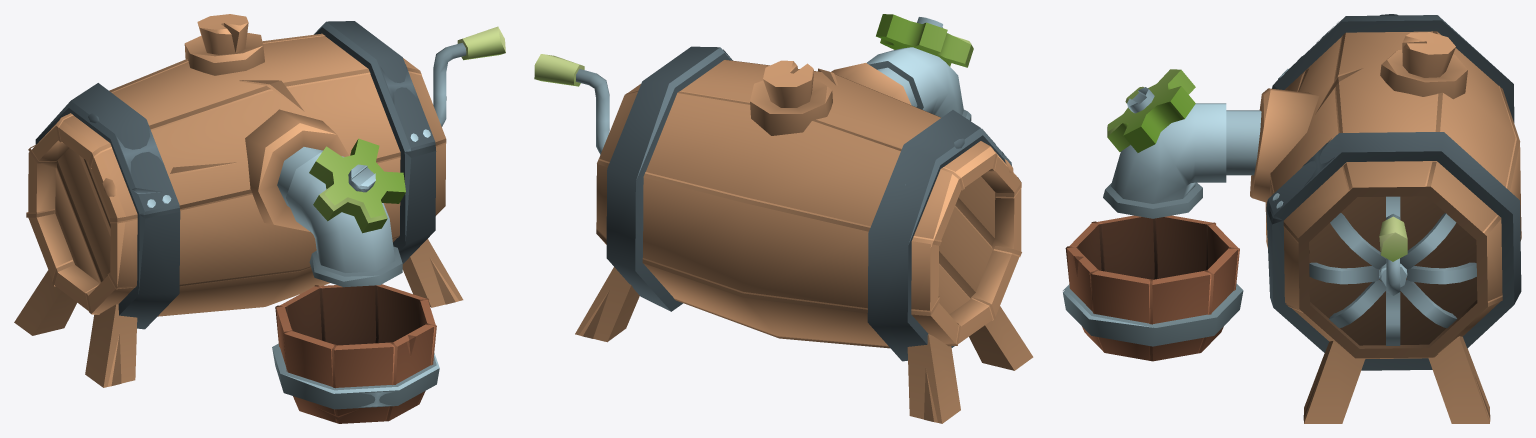
The model's file is woodenmixer.glb.
3 renders of one model, left to right at view 1: azimuth 30°, elevation 25°; view 2: azimuth 150°, elevation 25°; view 3: azimuth 270°, elevation 25°, orthographic. The views are drawn at different scales.
Visible parts, largest first — view 1: woodenmixer, Cylinder.014, Cylinder.013, Cube.010, Cylinder.015, Cylinder.012, Cylinder.018, wheelformachine, Cube.019; view 2: woodenmixer, Cube.019, Cylinder.012, Cylinder.013, Cylinder.018, Cylinder.015, wheelformachine, Cube.010; view 3: woodenmixer, Cylinder.014, Cylinder.013, wheelformachine, Cylinder.018, Cylinder.015, Cube.019, Cube.010, Cylinder.012.
Part boxes in pixels (x1,y1,x2,y2): woodenmixer: (28, 21, 445, 329); Cylinder.014: (272, 284, 439, 423); Cylinder.013: (245, 109, 402, 287); Cube.010: (85, 239, 463, 387); Cylinder.015: (309, 138, 405, 233); Cylinder.012: (26, 33, 446, 316); Cylinder.018: (184, 14, 264, 75); wheelformachine: (433, 26, 505, 126); Cube.019: (14, 270, 77, 335); woodenmixer: (596, 46, 1021, 361); Cube.019: (575, 267, 960, 423); Cylinder.012: (596, 59, 1021, 348); Cylinder.013: (831, 47, 971, 120); Cylinder.018: (750, 60, 832, 135); Cylinder.015: (876, 14, 973, 67); wheelformachine: (534, 54, 609, 154); Cube.010: (969, 306, 1033, 370); woodenmixer: (1265, 14, 1521, 370); Cylinder.014: (1063, 215, 1243, 361); Cylinder.013: (1103, 88, 1319, 218); wheelformachine: (1309, 196, 1476, 345); Cylinder.018: (1380, 32, 1467, 99); Cylinder.015: (1107, 69, 1195, 152); Cube.019: (1428, 336, 1490, 423); Cube.010: (1303, 341, 1365, 423); Cylinder.012: (1266, 31, 1521, 357).
Bounding box in the file's own units: 1.57 × 0.9618 × 1.37.
Materials: 1 (1 with a texture image).
